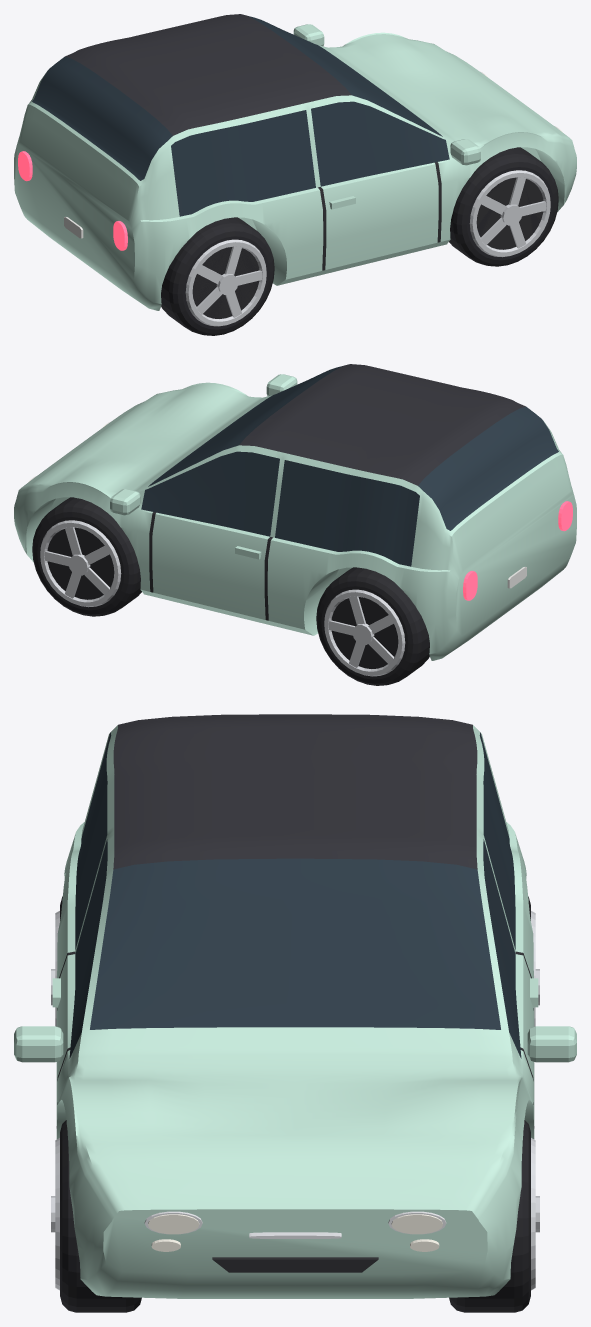
Rendered from fiat_500.fbx.
The picture shows the model from 3 angles, top to bottom: view 1: azimuth 30°, elevation 25°; view 2: azimuth 150°, elevation 25°; view 3: azimuth 270°, elevation 25°; orthographic projection. The views are drawn at different scales.
Visible parts, largest first — view 1: Body.020, Glass.020, Stripe.002, Tire.020, Rim.020, Trim.020, TailLight.020; view 2: Body.020, Glass.020, Stripe.002, Tire.020, Rim.020, TailLight.020, Trim.020; view 3: Body.020, Glass.020, Stripe.002, Tire.020, Trim.020, Rim.020, HeadLight.020, Chrome.018.
Boxes of the visible parts, box(x1,y1,x2,y2) form: Body.020: box(14, 24, 576, 310); Glass.020: box(32, 16, 449, 216); Stripe.002: box(65, 14, 351, 135); Tire.020: box(161, 147, 558, 335); Rim.020: box(185, 170, 550, 326); Trim.020: box(192, 162, 543, 318); TailLight.020: box(18, 151, 127, 250); Body.020: box(14, 374, 576, 660); Glass.020: box(141, 366, 558, 566); Stripe.002: box(239, 364, 525, 485); Tire.020: box(32, 497, 429, 685); Rim.020: box(40, 520, 405, 676); TailLight.020: box(463, 501, 572, 600); Trim.020: box(149, 512, 397, 668); Body.020: box(14, 725, 576, 1298); Glass.020: box(69, 732, 521, 1058); Stripe.002: box(113, 714, 477, 869); Tire.020: box(60, 896, 530, 1312); Trim.020: box(56, 951, 534, 1272); Rim.020: box(51, 911, 539, 1290); HeadLight.020: box(148, 1214, 442, 1251); Chrome.018: box(144, 1211, 446, 1238).
Size of the model in its own units: 1037 by 455 by 684.
